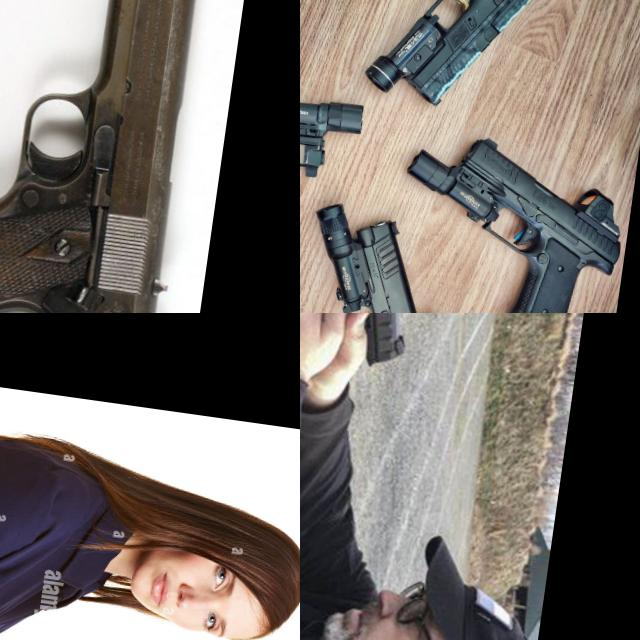handgun: (0, 0, 228, 313), (432, 133, 637, 313), (300, 13, 414, 202), (396, 0, 570, 123), (300, 208, 464, 313), (300, 313, 437, 429)
